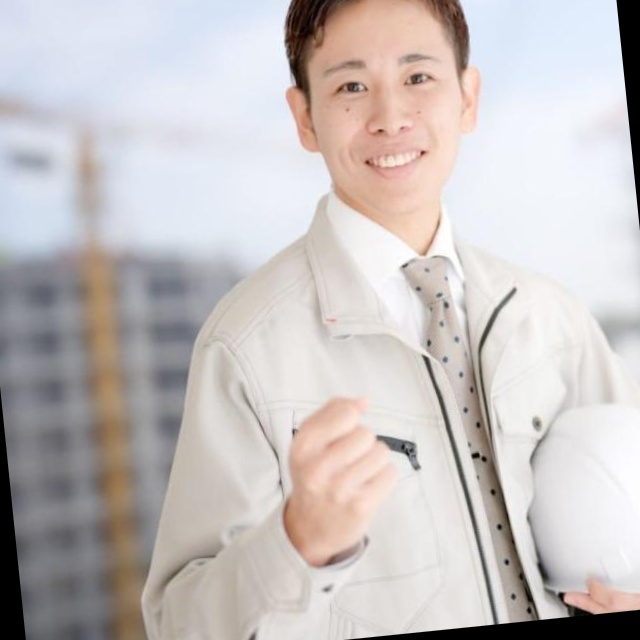Sin_Casco_Mascarrilla: (271, 0, 493, 219)
Sin_Chaleco: (211, 183, 614, 640)
